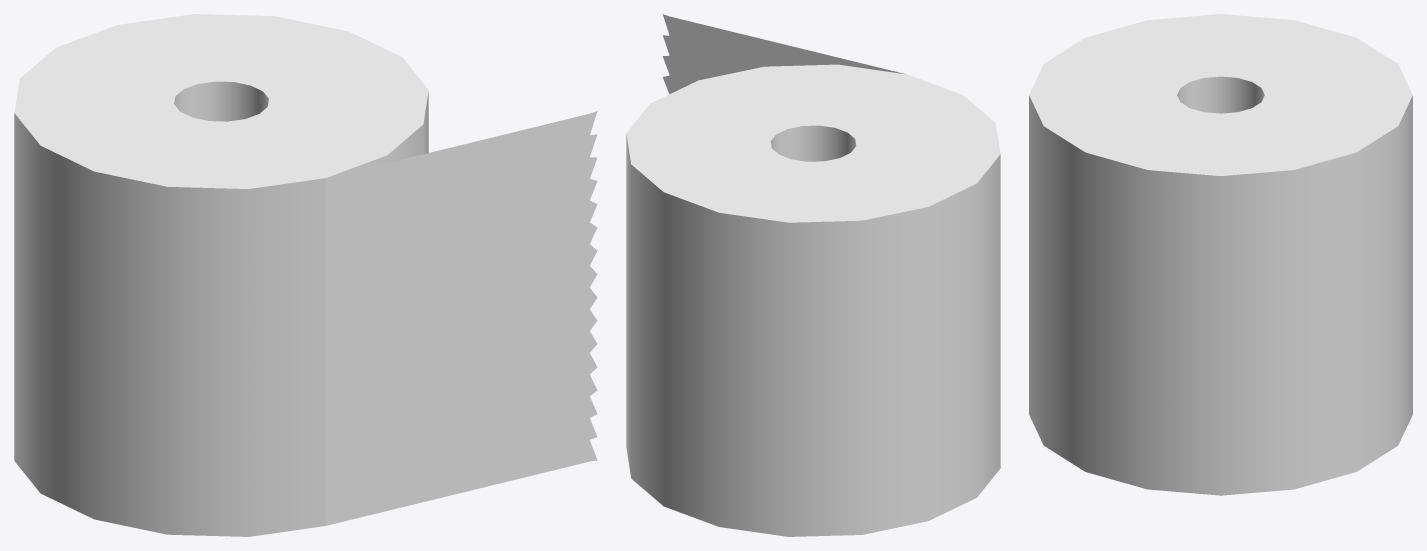
The model's file is paper_toilet.fbx.
3 views of the same model, side by side, from view 1: azimuth 30°, elevation 25°; view 2: azimuth 150°, elevation 25°; view 3: azimuth 270°, elevation 25° (orthographic). The views are drawn at different scales.
Visible parts, largest first — view 1: Cylinder; view 2: Cylinder; view 3: Cylinder.
Boxes of the visible parts, x1,y1,x2,y2 form: Cylinder: (14, 14, 597, 536); Cylinder: (626, 14, 1000, 536); Cylinder: (1029, 14, 1412, 495).
Size of the model in its own units: 3.74 by 2.76 by 2.99.
